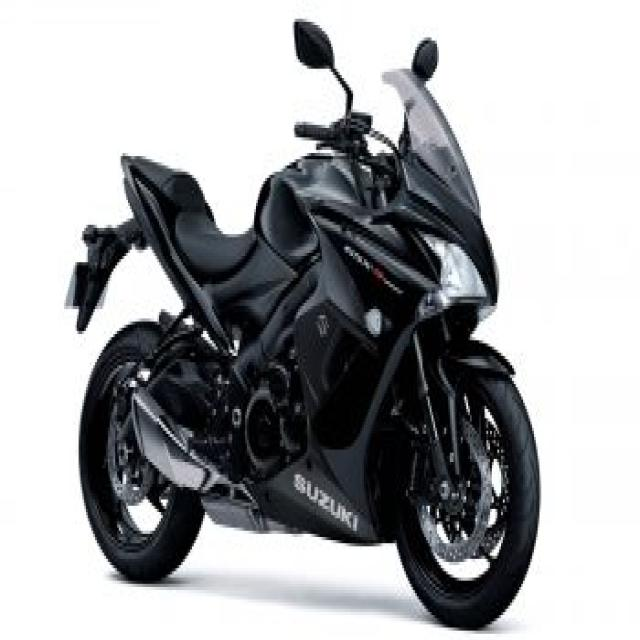Motorcycle: (68, 44, 541, 629)
